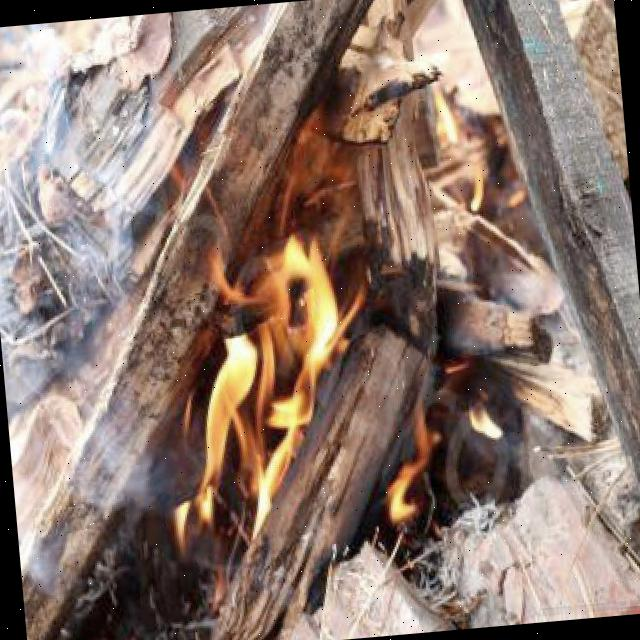fire: (138, 167, 494, 584)
